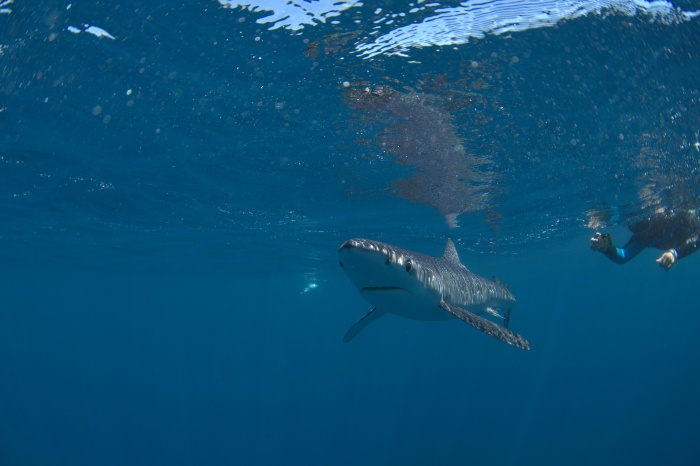Azul: (301, 218, 544, 356)
